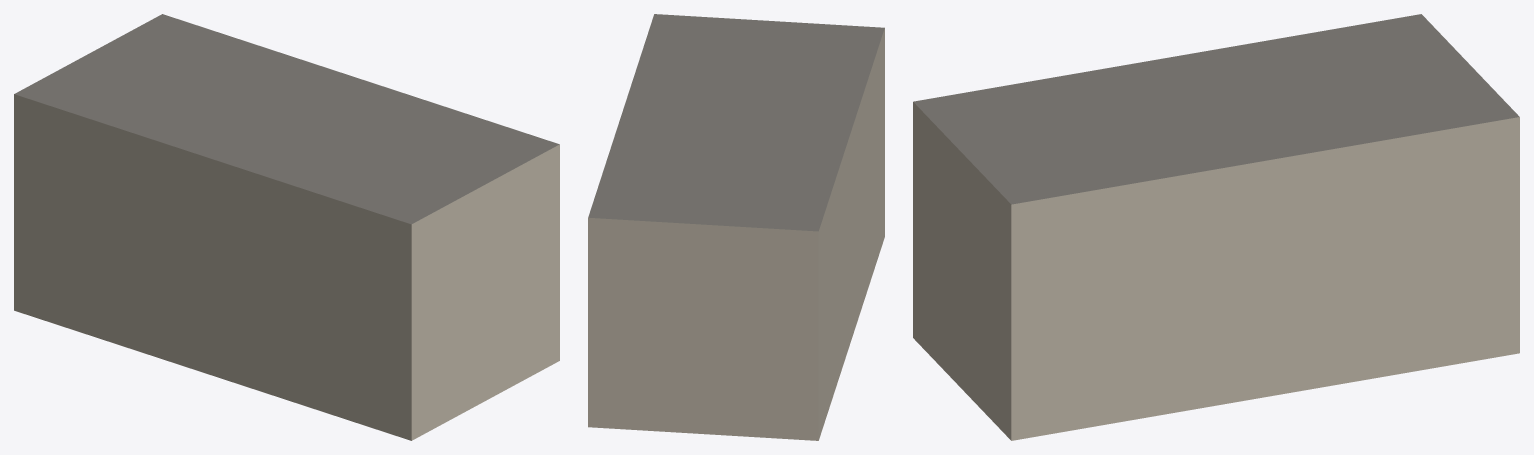
3 renders of one model, left to right at view 1: azimuth 30°, elevation 25°; view 2: azimuth 150°, elevation 25°; view 3: azimuth 270°, elevation 25°, orthographic. The views are drawn at different scales.
Visible parts, largest first — view 1: HP-w446934376; view 2: HP-w446934376; view 3: HP-w446934376.
Boxes of the visible parts, <box> form: HP-w446934376: <box>14,14,559,440</box>; HP-w446934376: <box>588,14,884,440</box>; HP-w446934376: <box>913,14,1519,440</box>.
Bounding box in the file's own units: 31.13 × 18 × 41.88.
